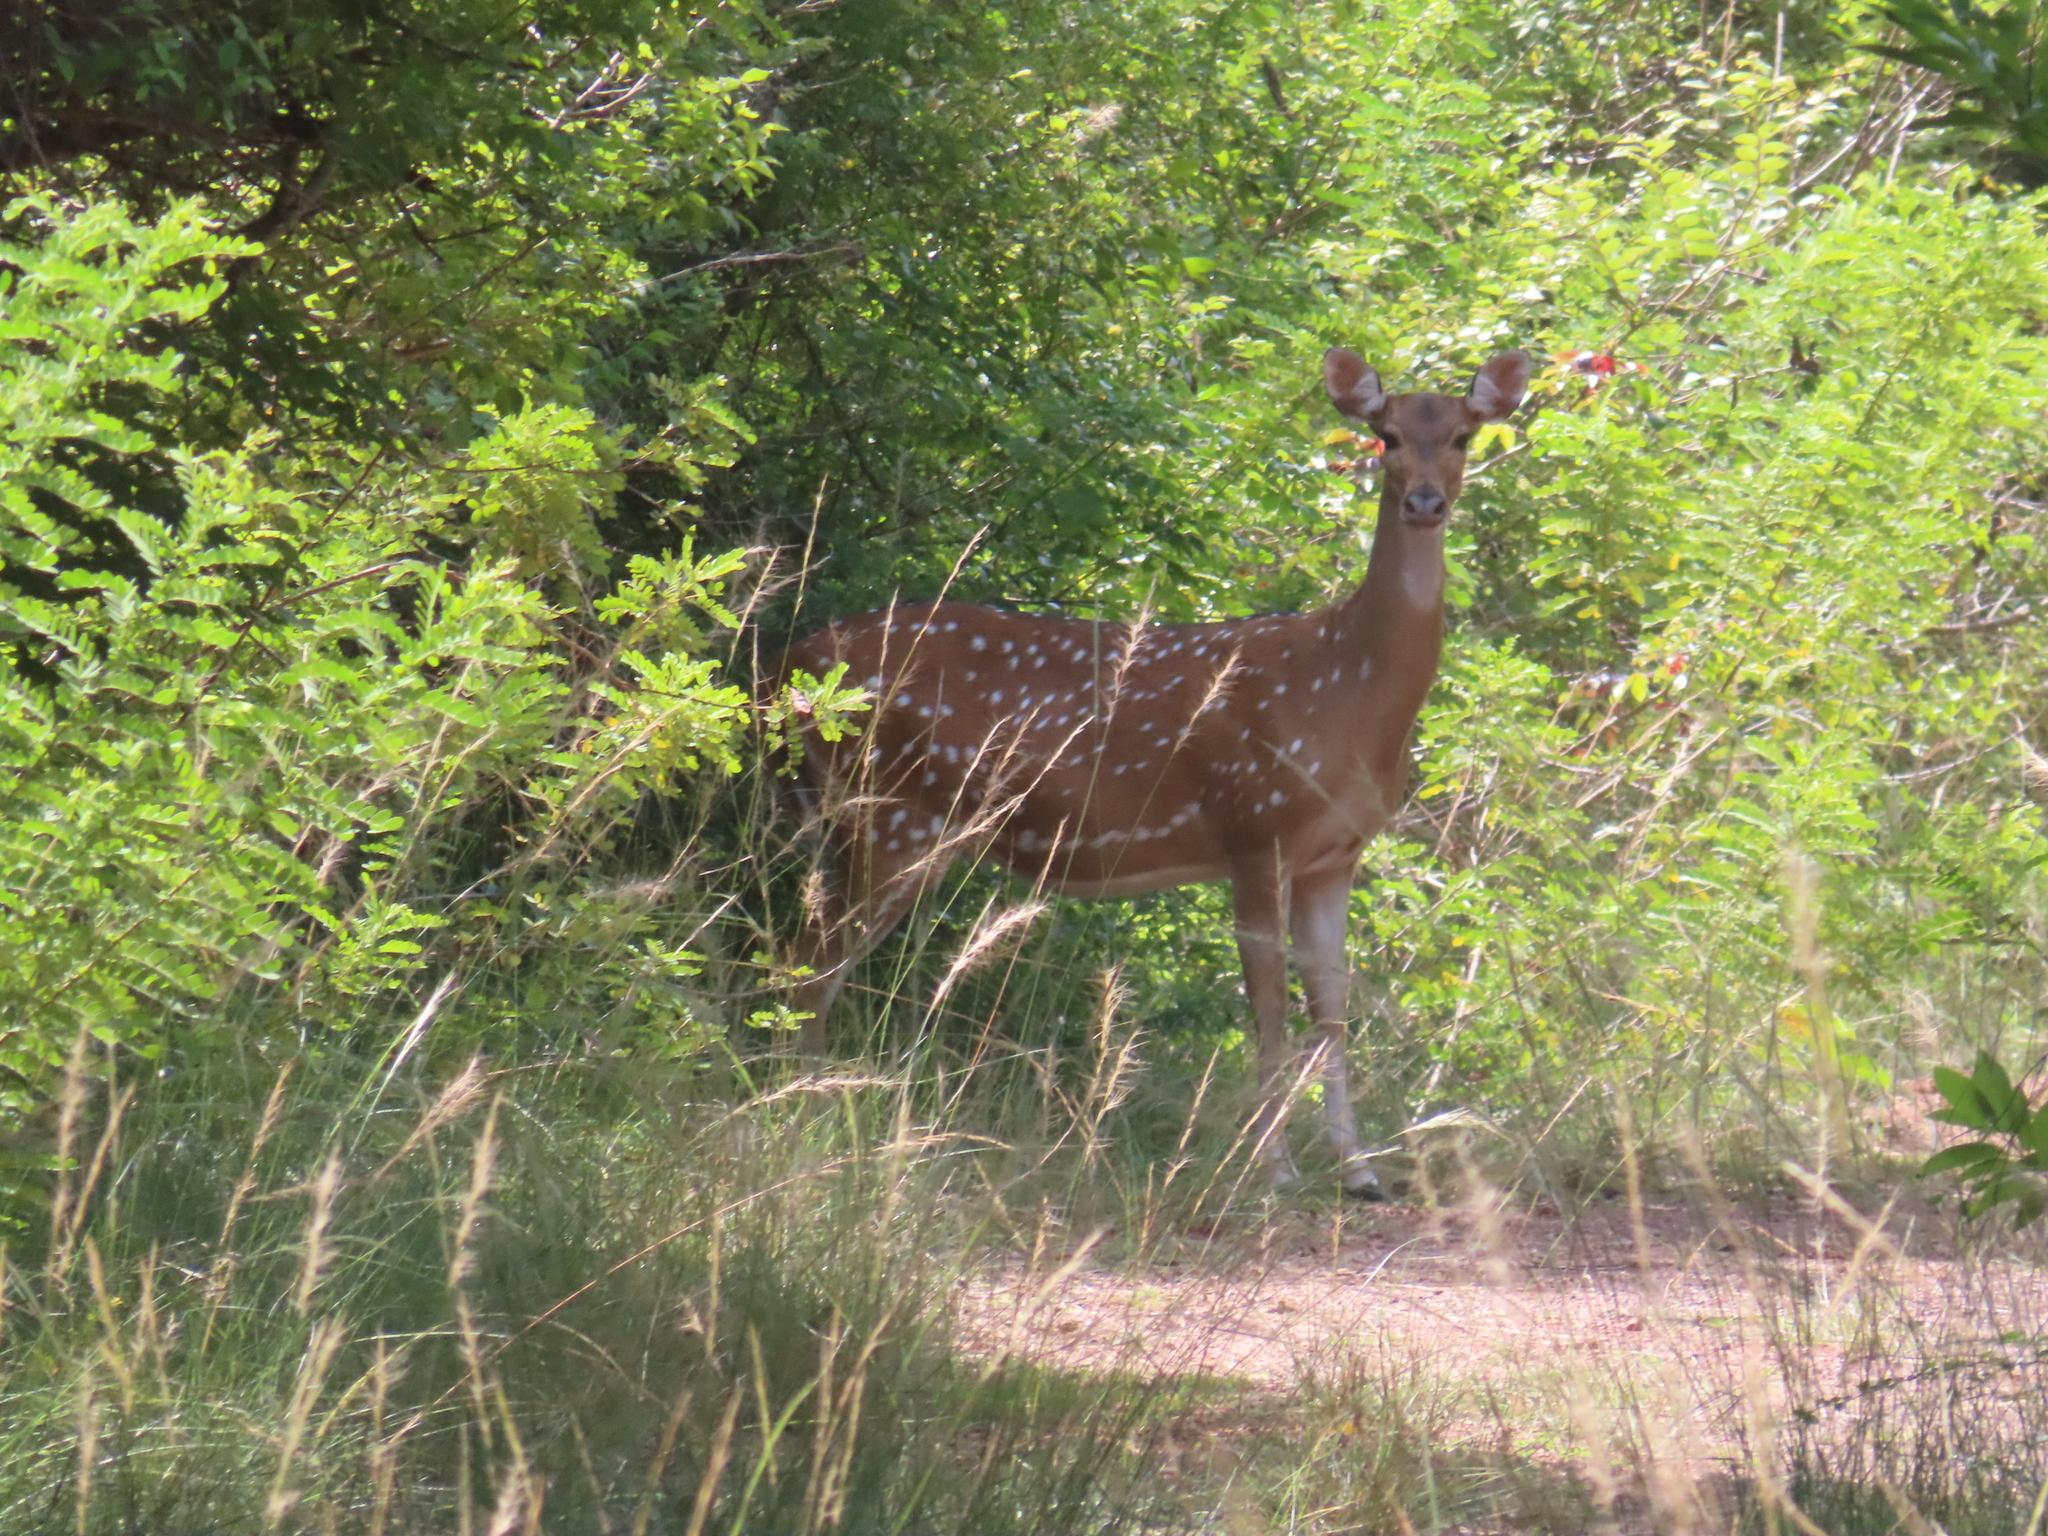Deer: (781, 349, 1530, 1197)
